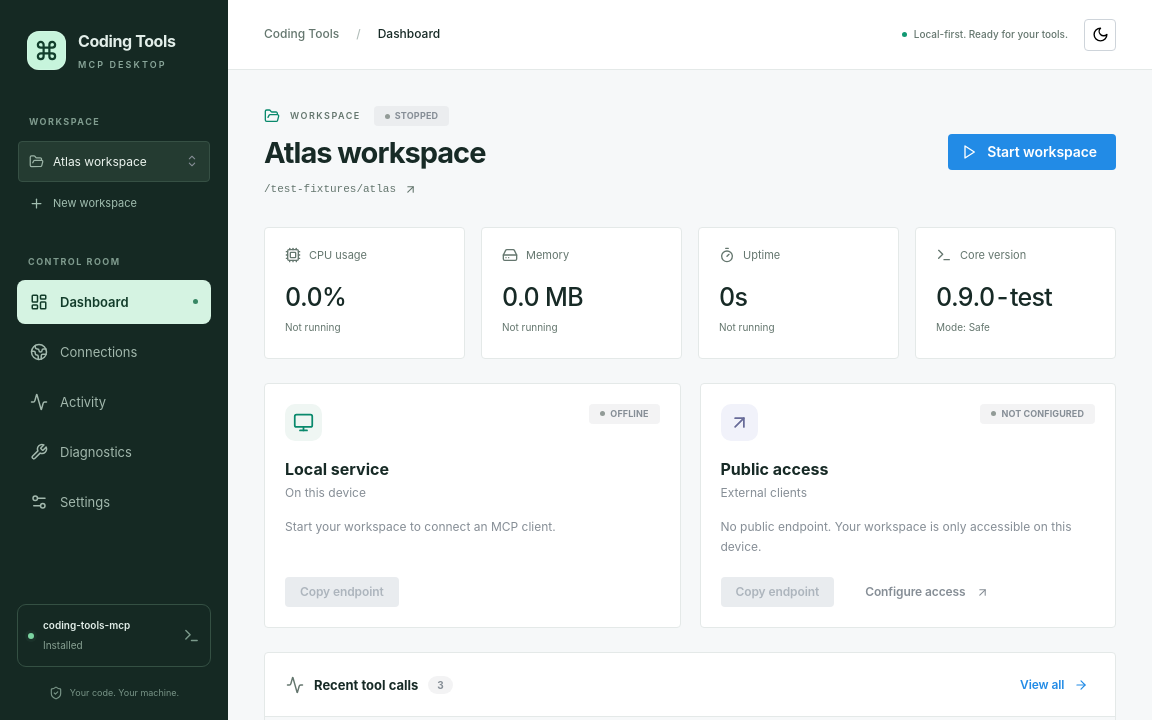
Test case: desktop interrupted and delayed IPC flows › refreshes after a mutation without letting an older poll restore stale status
The image size is (1152, 720).
Click the button "Start workspace": {"x": 1032, "y": 152} [948,134,1116,170]
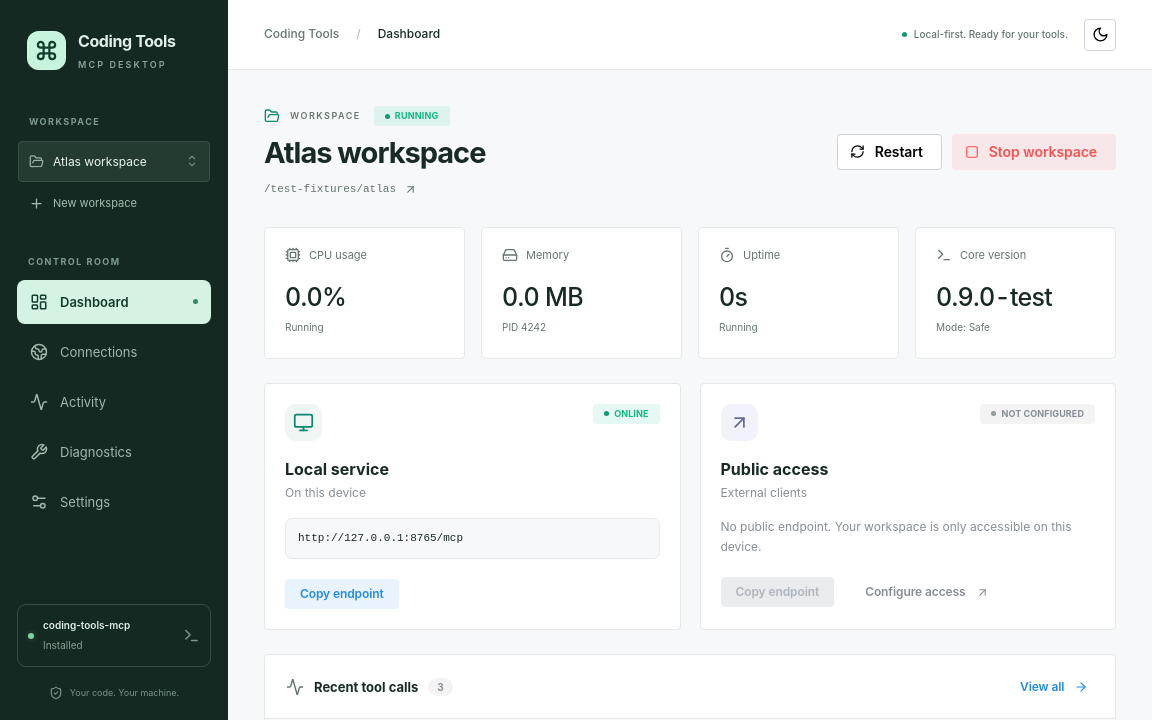
Now the button "Stop workspace" is enabled, box [952,134,1116,170]
Now the button "Start workspace" is gone
